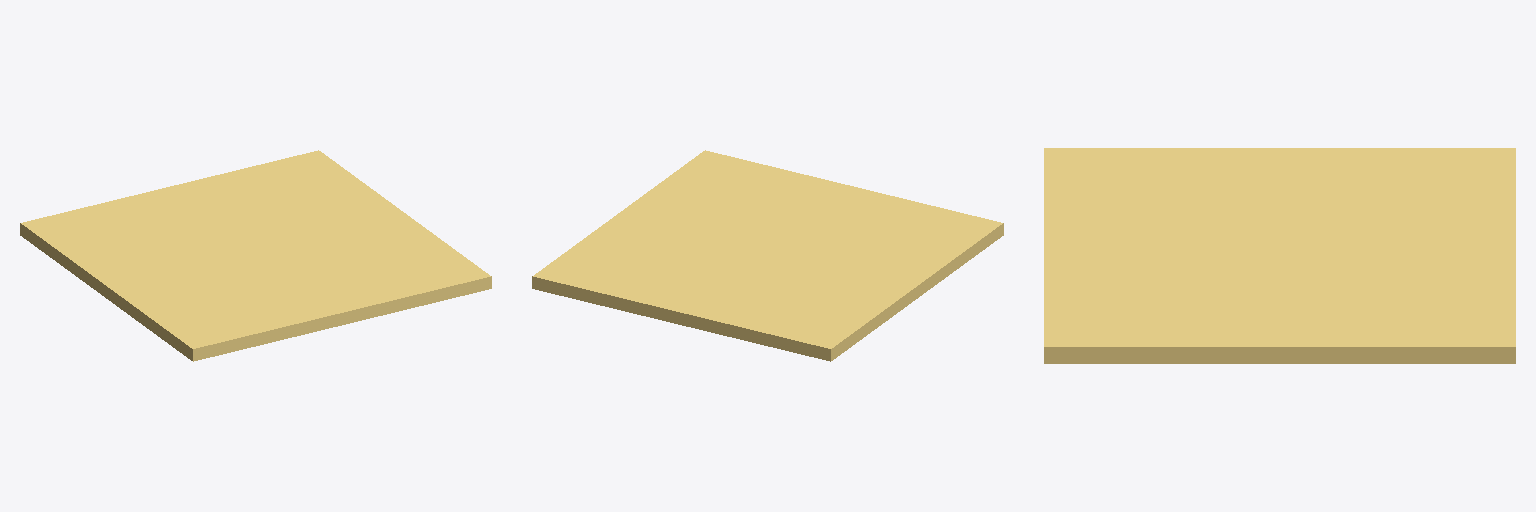
The robot description file, URDF, robot "cheese_slice":
<robot name="cheese_slice">
  <link name="cheese_slice">
    <collision>
      <origin xyz="0.0 0.0 0.0015" />
      <geometry>
        <box size="0.075 0.075 0.003" />
      </geometry>
    </collision>
    <visual>
      <origin xyz="0.0 0.0 0.0015" />
      <material name="light yellow">
        <color rgba="1. 0.9 0.6 1.0" />
      </material>
      <geometry>
        <box size="0.075 0.075 0.003" />
      </geometry>
    </visual>
  </link>
</robot>

--- Render facts (derived) ---
Views: 3 orthographic renders of the robot side by side, from view 1: azimuth 30°, elevation 25°; view 2: azimuth 150°, elevation 25°; view 3: azimuth 270°, elevation 25°.
Robot: cheese_slice — 1 links, 0 joints (none); root link cheese_slice; default pose: every joint at zero.
Visible links, largest first — view 1: cheese_slice; view 2: cheese_slice; view 3: cheese_slice.
Boxes of the visible links, x1,y1,x2,y2 form: cheese_slice: [20, 150, 491, 361]; cheese_slice: [532, 150, 1003, 361]; cheese_slice: [1044, 148, 1515, 363].
Bounding box of the posed robot: 0.075 × 0.075 × 0.003 m (x, y, z).
Geometry: primitives only (box / cylinder / sphere), no mesh files.